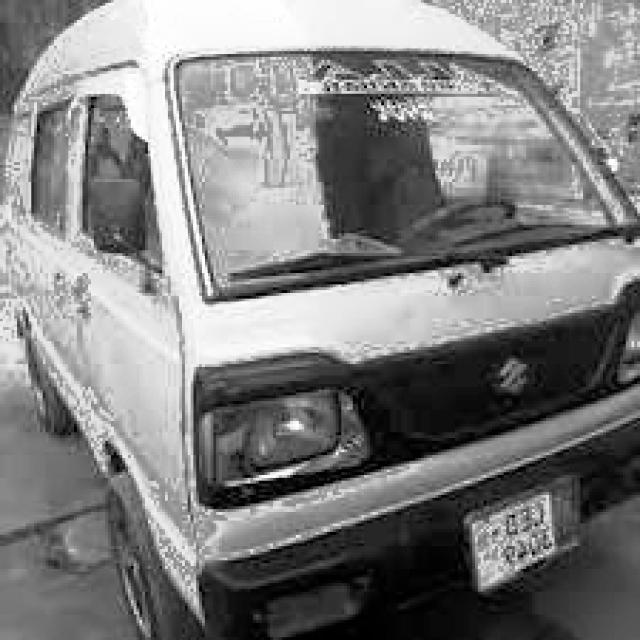LCV: (0, 0, 637, 637)
